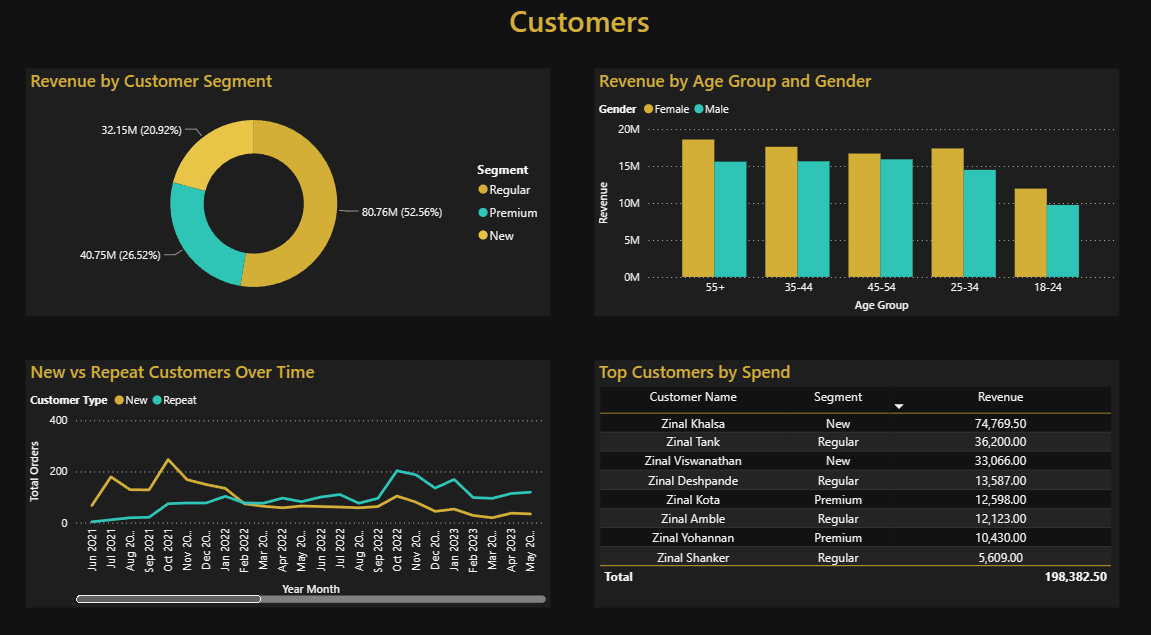

This screenshot's page, from the dashboard's own definition file:
{"tool":"powerbi","page":{"name":"Customers","canvas":[1280,720],"ordinal":2},"visuals":[{"type":"textbox","box":[496,0,288,52],"z":0},{"type":"donutChart","title":"Revenue by  Customer Segment","fields":{"Category":["Customers.Segment"],"Y":["Measure_Tab.Revenue"]},"box":[32,80,576,272],"z":1000},{"type":"clusteredColumnChart","title":"Revenue by Age Group and Gender","fields":{"Series":["Customers.Gender"],"Category":["Customers.AgeGroup"],"Y":["Measure_Tab.Revenue"]},"box":[656,80,576,272],"z":2000},{"type":"lineChart","title":"New vs Repeat Customers Over Time","fields":{"Category":["DateTable.YearMonth"],"Series":["Orders.Customer Type"],"Y":["Measure_Tab.Total Orders"]},"box":[32,400,576,272],"z":3000},{"type":"tableEx","title":"Top Customers by Spend","fields":{"Values":["Customers.CustomerName","Customers.Segment","Measure_Tab.Revenue"]},"box":[656,400,576,272],"z":4000}]}

Visuals, with their boxes in screenshot pixels (x1, y1, x2, y2), scaled from the page's 1280x720 canvas onto the 1151x635 screenshot:
textbox: x1=446 y1=0 x2=705 y2=46
"Revenue by  Customer Segment" donutChart: x1=29 y1=71 x2=547 y2=310
"Revenue by Age Group and Gender" clusteredColumnChart: x1=590 y1=71 x2=1108 y2=310
"New vs Repeat Customers Over Time" lineChart: x1=29 y1=353 x2=547 y2=593
"Top Customers by Spend" tableEx: x1=590 y1=353 x2=1108 y2=593
